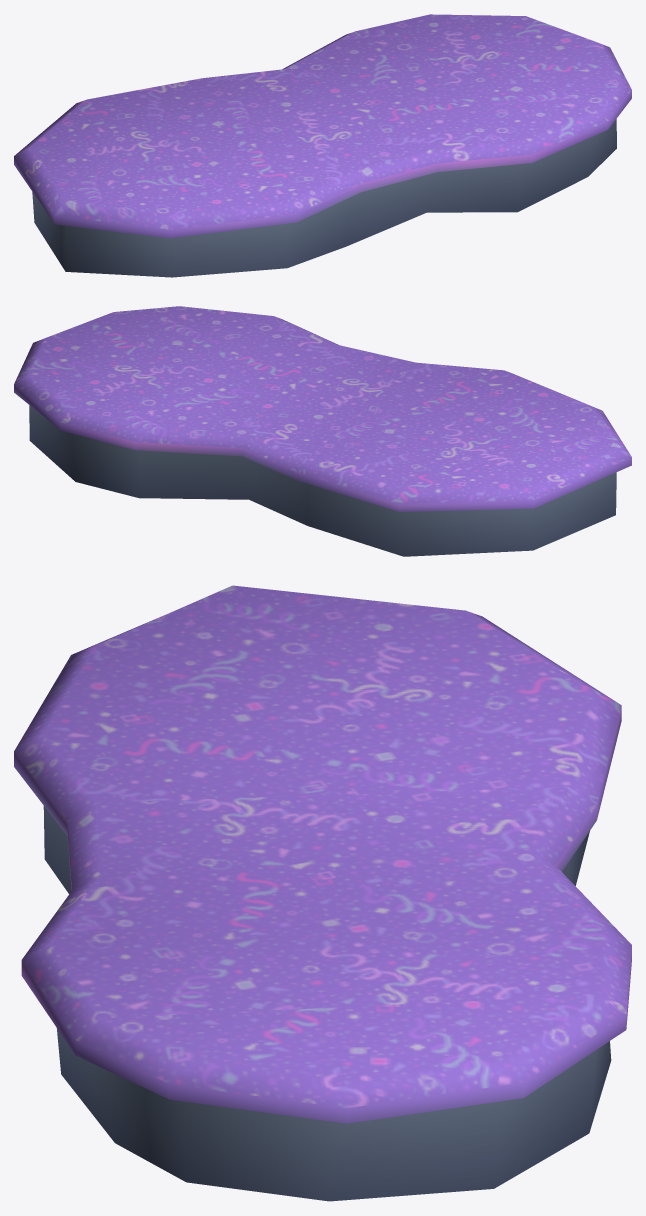
The model's file is Fbx_BowlingIslands.fbx_Island2.fbx.
The picture shows the model from 3 angles, top to bottom: view 1: azimuth 30°, elevation 25°; view 2: azimuth 150°, elevation 25°; view 3: azimuth 270°, elevation 25°; orthographic projection. The views are drawn at different scales.
Visible parts, largest first — view 1: BowlingIsland2; view 2: BowlingIsland2; view 3: BowlingIsland2.
Part boxes in pixels (bbox=[...]): BowlingIsland2: bbox=[14, 14, 631, 277]; BowlingIsland2: bbox=[14, 306, 631, 556]; BowlingIsland2: bbox=[14, 585, 631, 1201].
Size of the model in its own units: 14.39 by 1.8 by 7.24.
